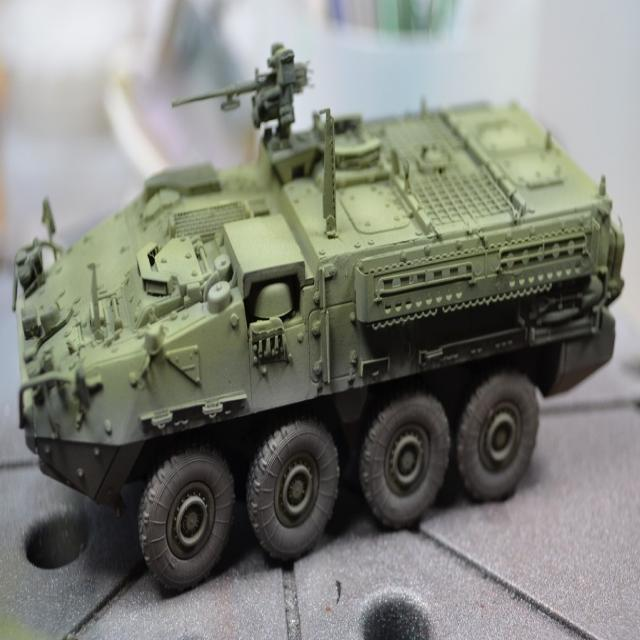tank: (12, 38, 626, 596)
